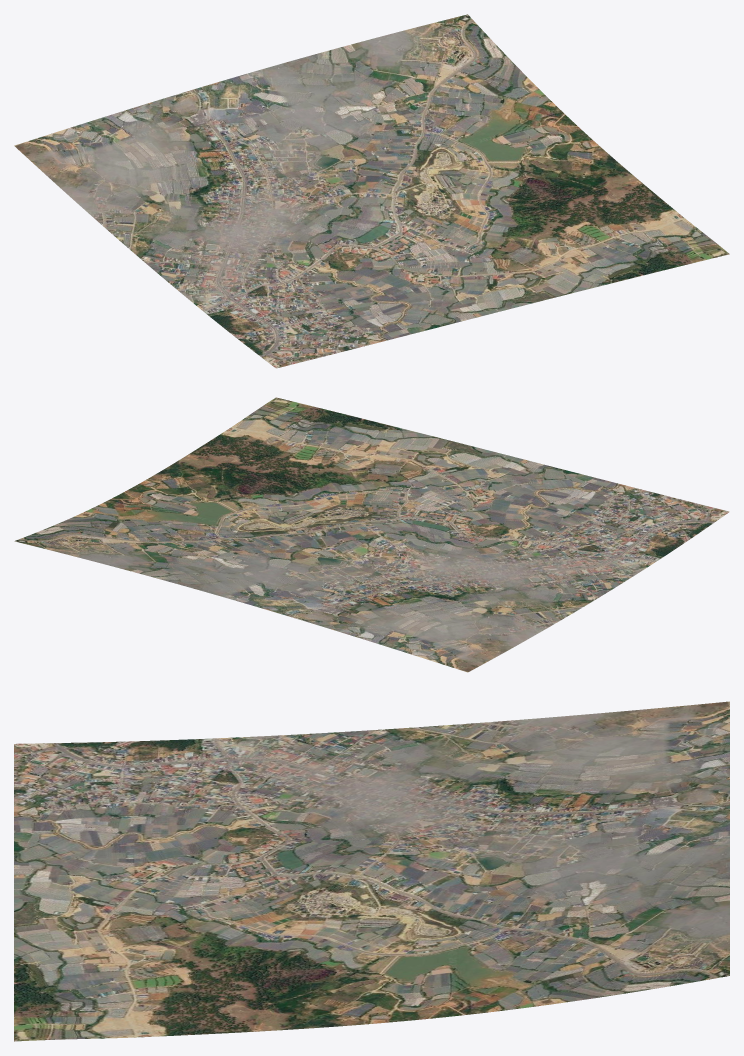
The model's file is terrain_real_T_W01_N04.glb.
3 renders of one model, top to bottom at view 1: azimuth 30°, elevation 25°; view 2: azimuth 150°, elevation 25°; view 3: azimuth 270°, elevation 25°, orthographic. The views are drawn at different scales.
Visible parts, largest first — view 1: Terrain_Real_DEM_T_W01_N04; view 2: Terrain_Real_DEM_T_W01_N04; view 3: Terrain_Real_DEM_T_W01_N04.
Boxes of the visible parts, box(x1,y1,x2,y2) form: Terrain_Real_DEM_T_W01_N04: box(14, 14, 729, 368); Terrain_Real_DEM_T_W01_N04: box(14, 397, 729, 672); Terrain_Real_DEM_T_W01_N04: box(14, 701, 729, 1041).
Bounding box in the file's own units: 2000 × 217 × 2000.
1 material, 1 textured.
